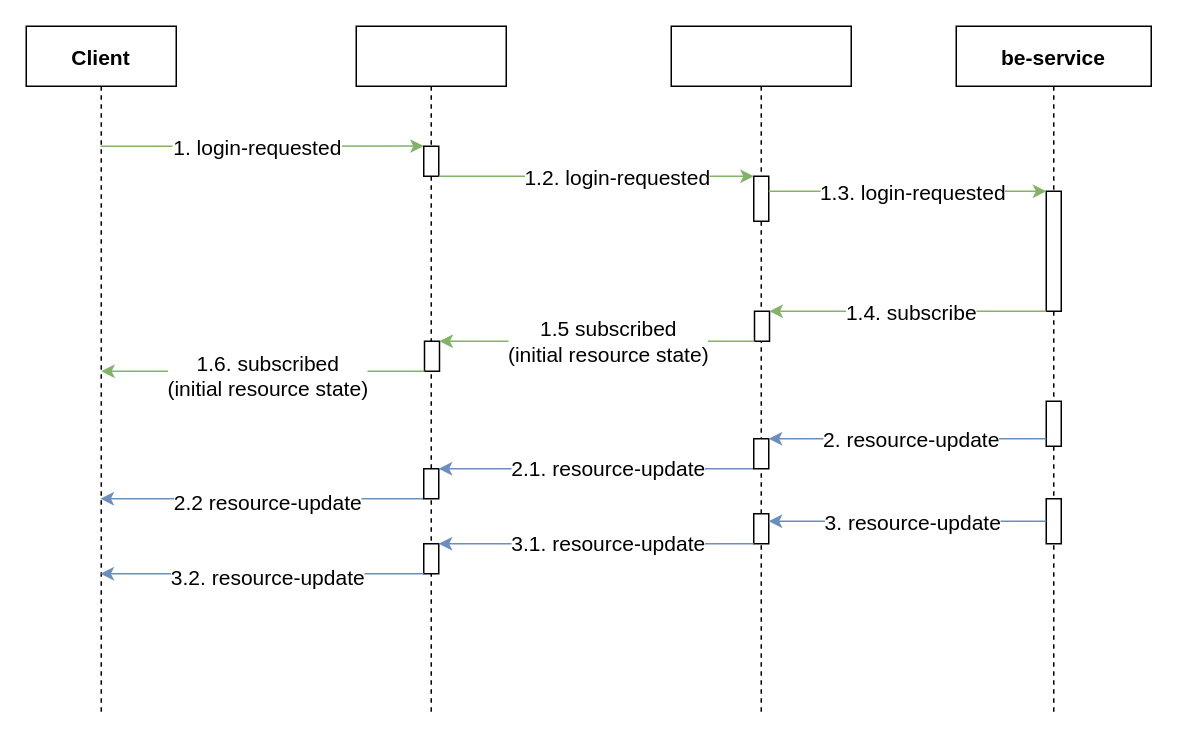
The diagram is 1178 pixels wide and 743 high, and some of its shapes have lost their labels. Here are the shapes that lost their labels. From the top down, the box of each, then its label:
(355, 25, 506, 716): iris-router
(670, 25, 851, 716): iris-subscription
